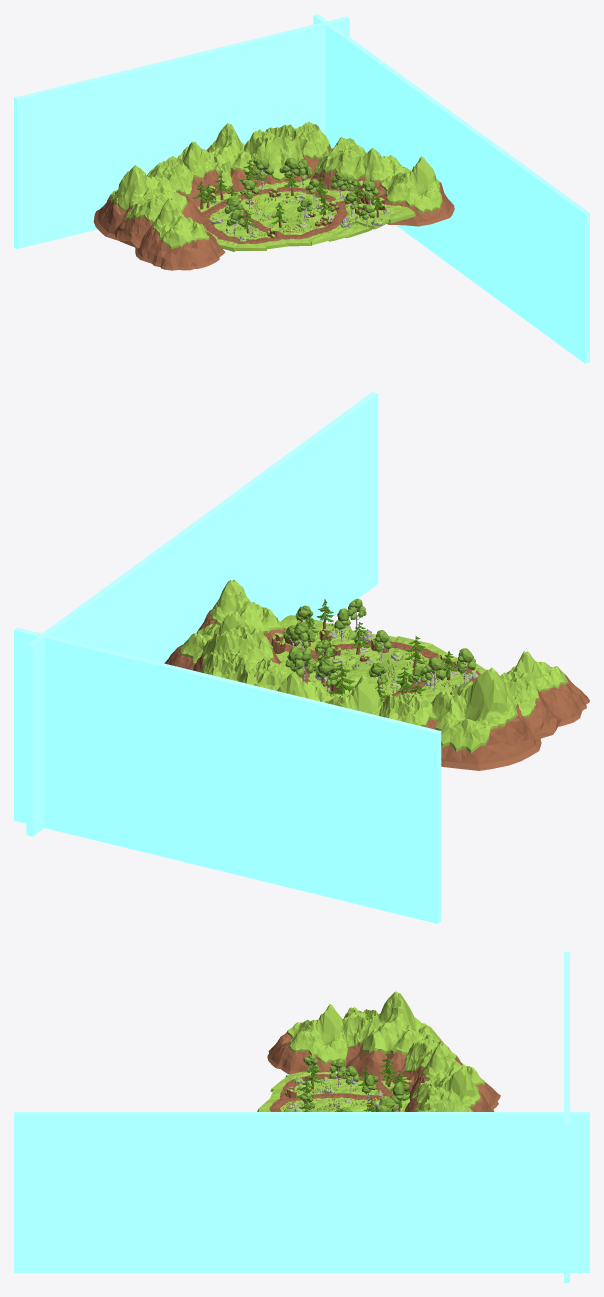
The model's file is BG_Forest_Battle.fbx.
The picture shows the model from 3 angles, top to bottom: view 1: azimuth 30°, elevation 25°; view 2: azimuth 150°, elevation 25°; view 3: azimuth 270°, elevation 25°; orthographic projection. The views are drawn at different scales.
Visible parts, largest first — view 1: Cube, Forest_battle_field; view 2: Cube, Forest_battle_field; view 3: Cube, Forest_battle_field.
Boxes of the visible parts, box(x1,y1,x2,y2) form: Cube: box(14, 14, 589, 363); Forest_battle_field: box(93, 121, 454, 270); Cube: box(14, 392, 441, 923); Forest_battle_field: box(164, 579, 589, 770); Cube: box(14, 952, 589, 1282); Forest_battle_field: box(257, 991, 500, 1111).
Size of the model in its own units: 16003 by 6865 by 22616.
Materials: 2 (1 with a texture image).
